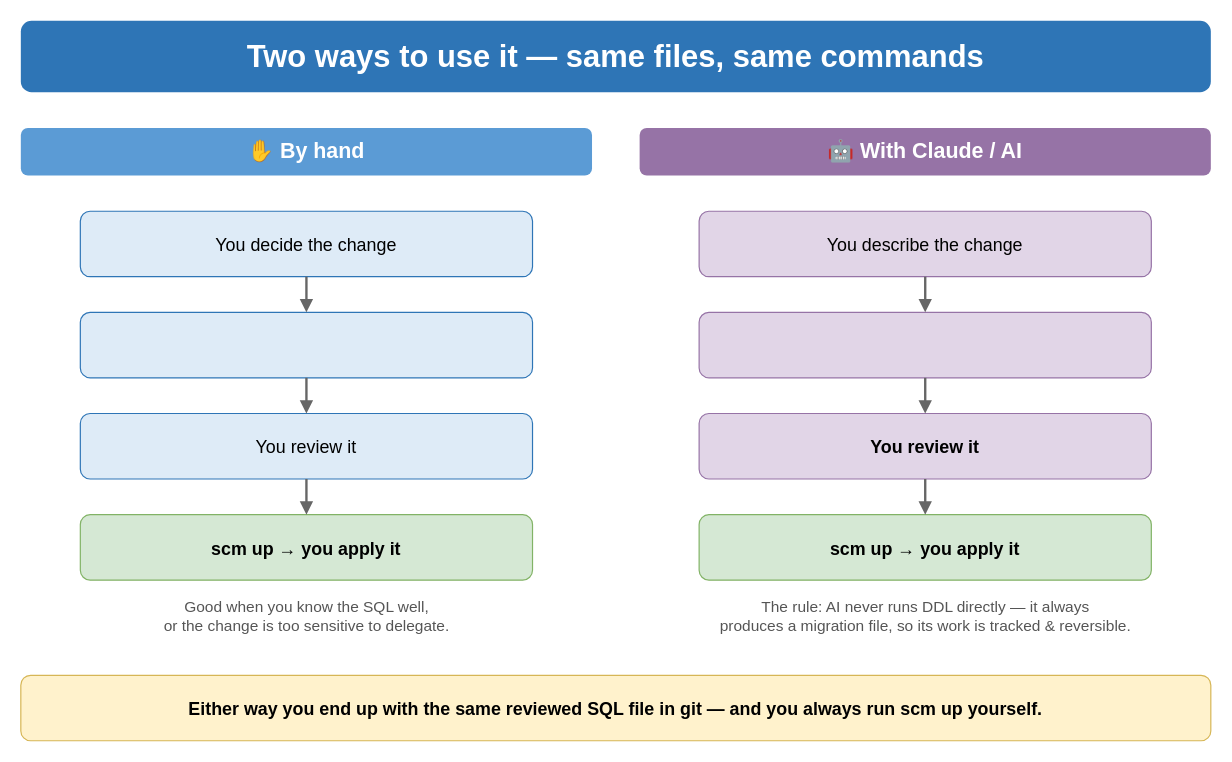
This 1232x762 diagram has some shape labels left out. Here are the shapes that lost their labels. From the top down, the centre of each, then its label:
At (306,344): "scm new → you write the SQL (up + down)".
At (924,344): "Claude runs scm new & writes the SQL (never touches the DB directly)".
